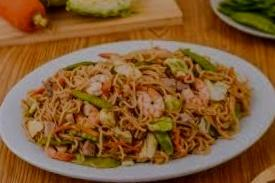pancit bihon: (20, 48, 252, 167)
